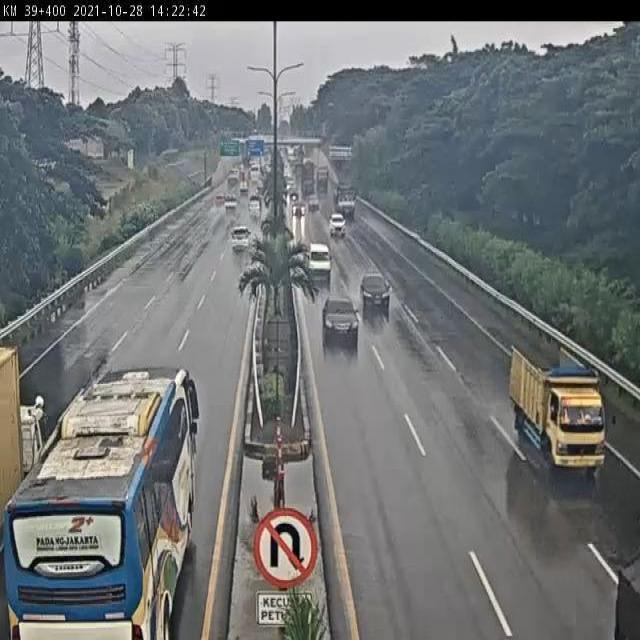truck: (4, 365, 201, 640), (513, 343, 610, 469)
